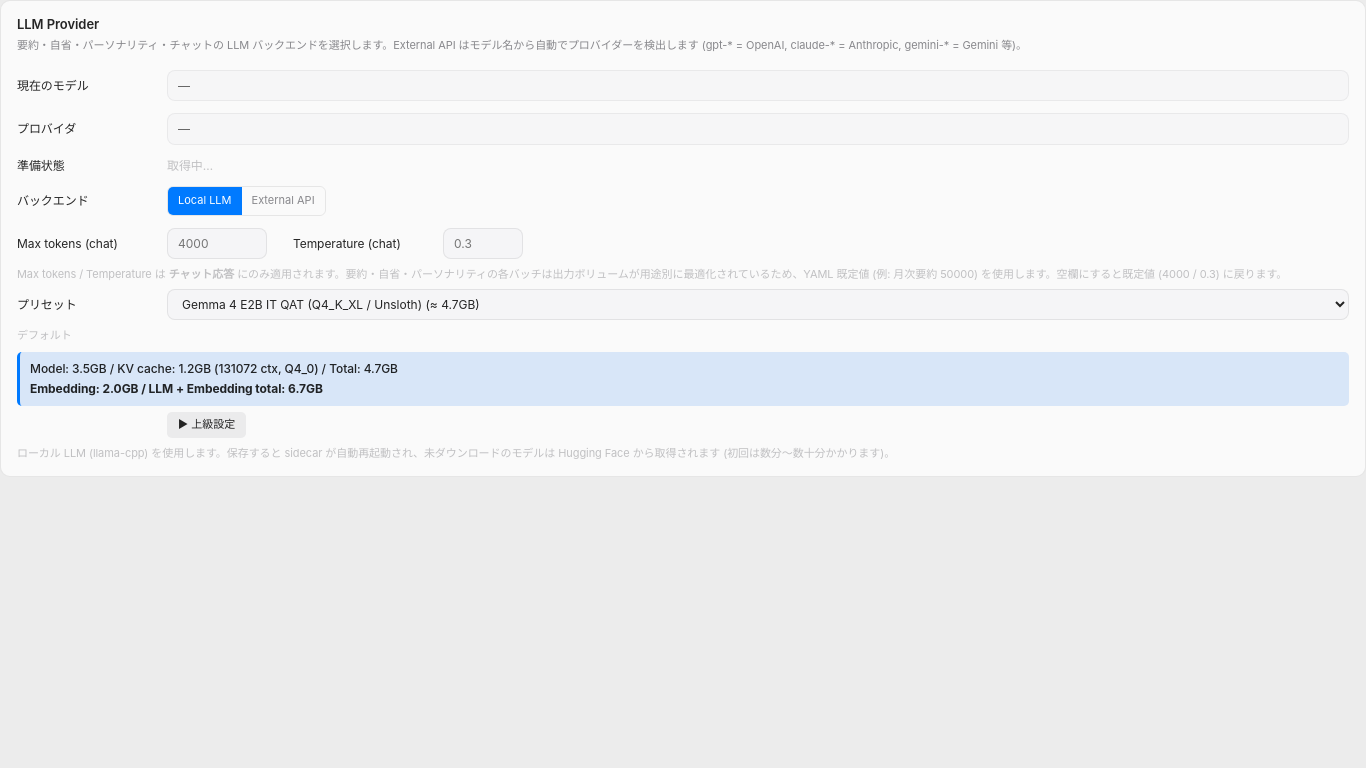
Test: LlmProviderCard local LLM presets › keeps the advanced section collapsed by default and shows ctx_size when expanded
Click the button "▶ 上級設定" at (207, 425), box [167,412,246,438]
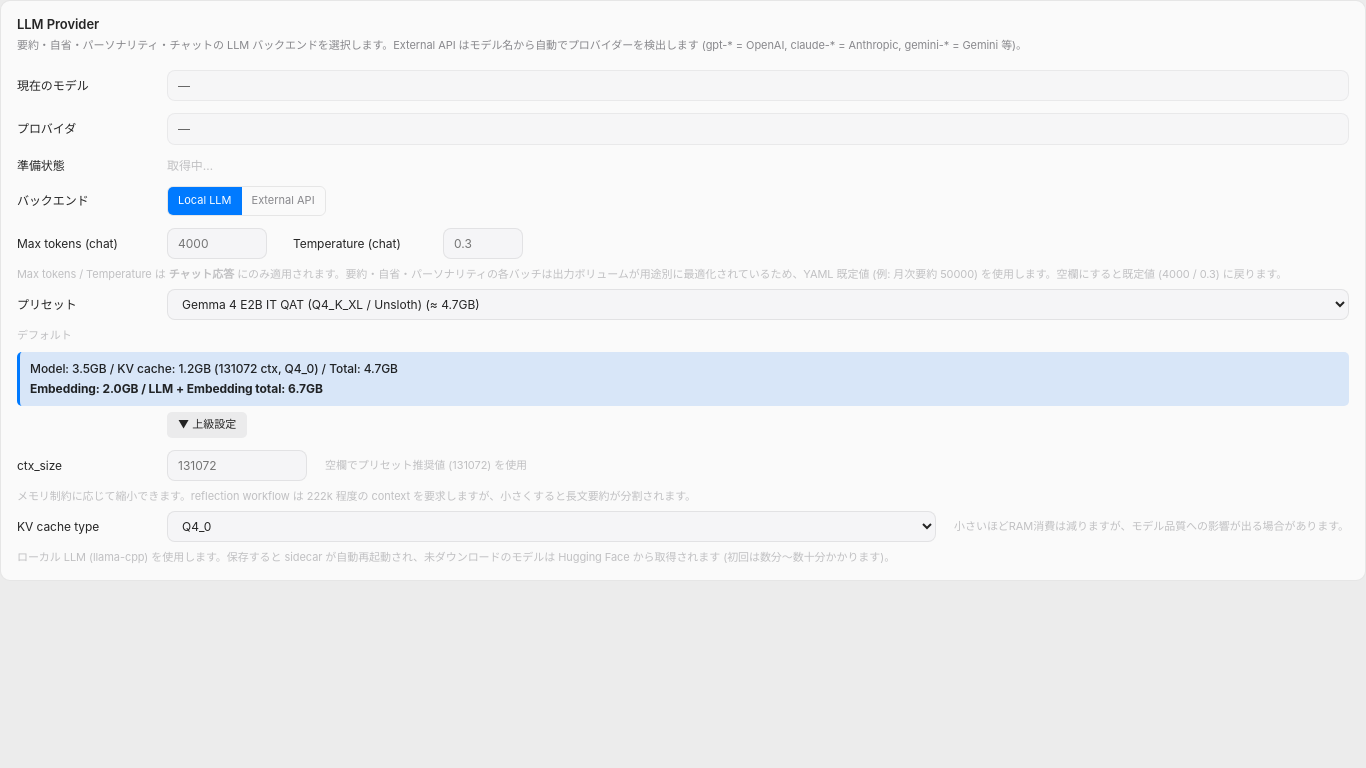
Check: the number field with placeholder "131072" is shown, box [167,450,307,482]
Check: the dropdown showing "Q4_0" next to "小さいほどRAM消費は減りますが、モデル品質への影響が出る場合があります。" is shown, box [167,511,936,542]
